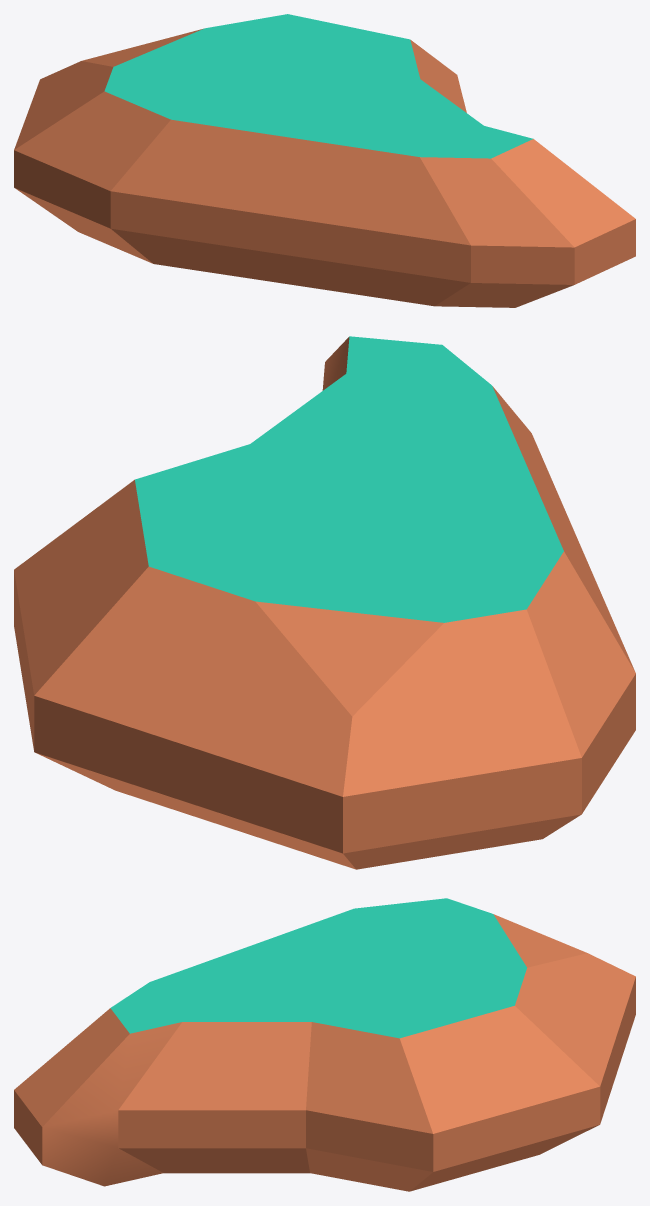
File: Rock Large A.glb
The picture shows the model from 3 angles, top to bottom: view 1: azimuth 30°, elevation 25°; view 2: azimuth 150°, elevation 25°; view 3: azimuth 270°, elevation 25°; orthographic projection. The views are drawn at different scales.
Parts seen in each view (by area): view 1: rock_largeA; view 2: rock_largeA; view 3: rock_largeA.
Part boxes in pixels (left/top/right/bottom): rock_largeA: left=14, top=14, right=635, bottom=307; rock_largeA: left=14, top=336, right=635, bottom=869; rock_largeA: left=14, top=898, right=635, bottom=1191.
Bounding box in the file's own units: 0.7849 × 0.2598 × 1.02.
